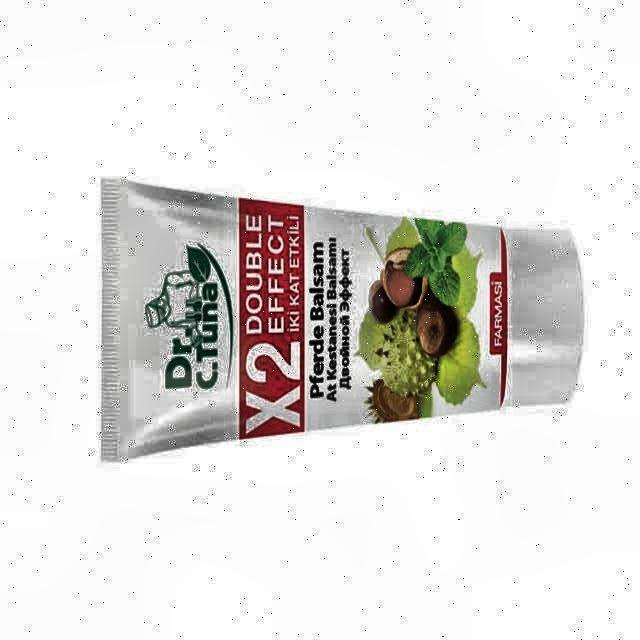plastic: (101, 179, 582, 461)
